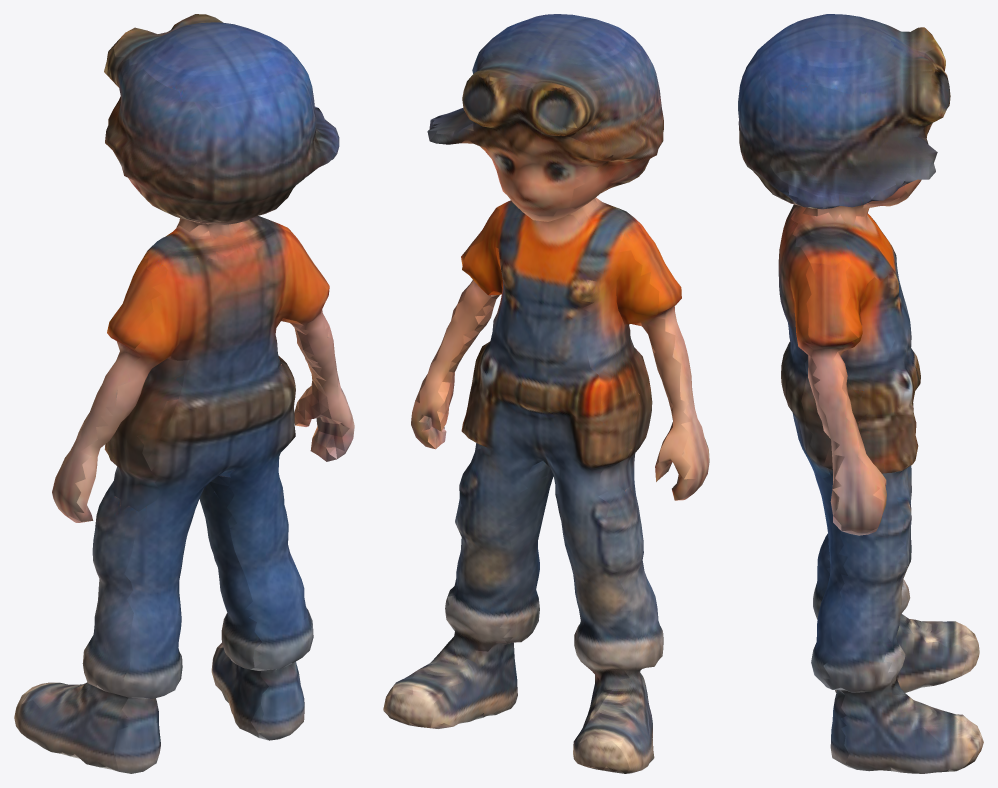
The model's file is tinker.glb.
3 views of the same model, side by side, from view 1: azimuth 30°, elevation 25°; view 2: azimuth 150°, elevation 25°; view 3: azimuth 270°, elevation 25° (orthographic). The views are drawn at different scales.
Visible parts, largest first — view 1: world; view 2: world; view 3: world.
Boxes of the visible parts, <box> form: world: <box>14,14,354,773</box>; world: <box>383,14,709,773</box>; world: <box>738,14,983,773</box>.
Size of the model in its own units: 0.4048 by 0.9531 by 0.3027.
Materials: 1 (1 with a texture image).
